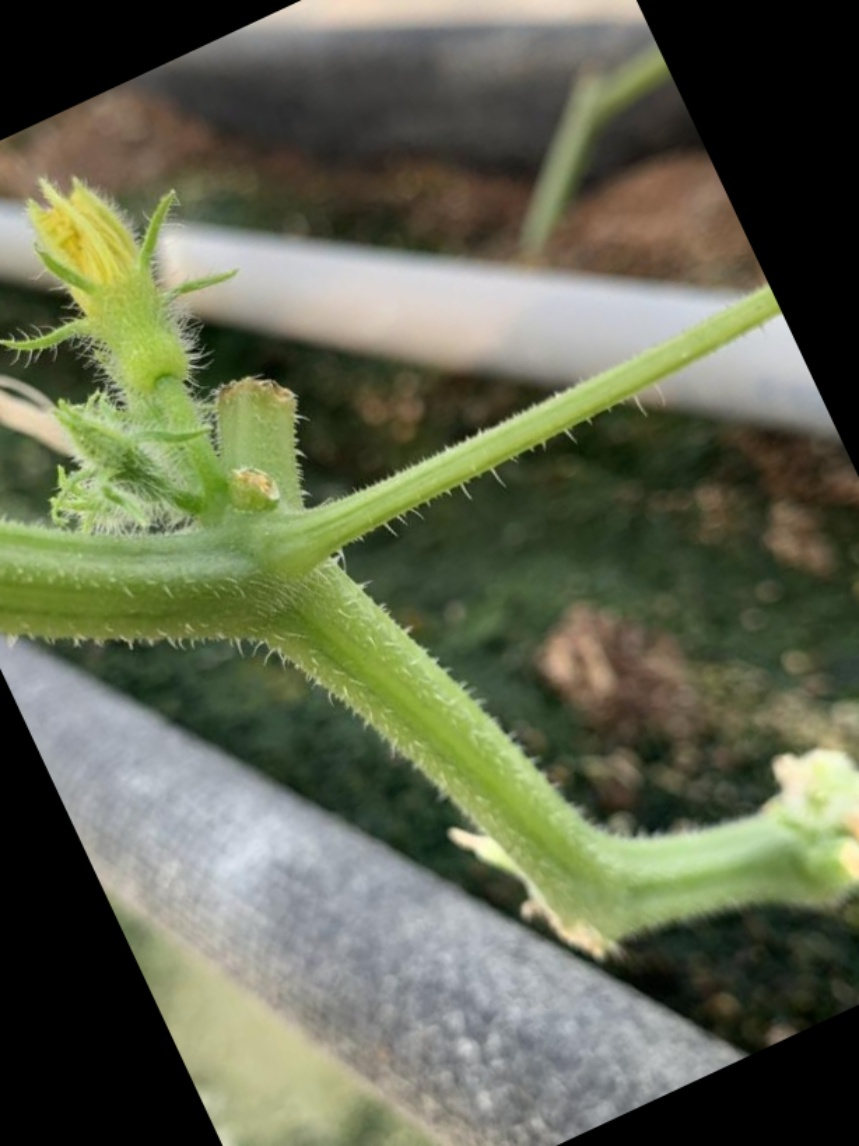bud: (2, 173, 255, 411)
